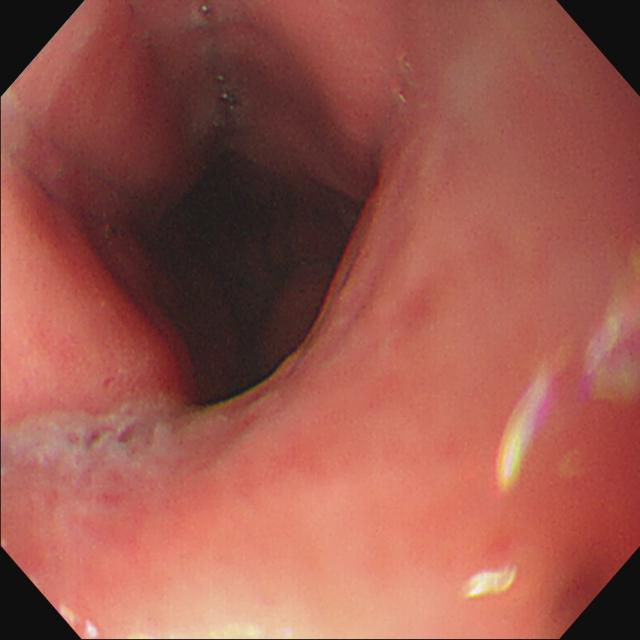E: (189, 175, 285, 275)
J: (6, 411, 183, 469)
U: (496, 368, 556, 495), (462, 565, 519, 601)
